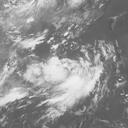cyclone: (42, 57, 100, 103)
